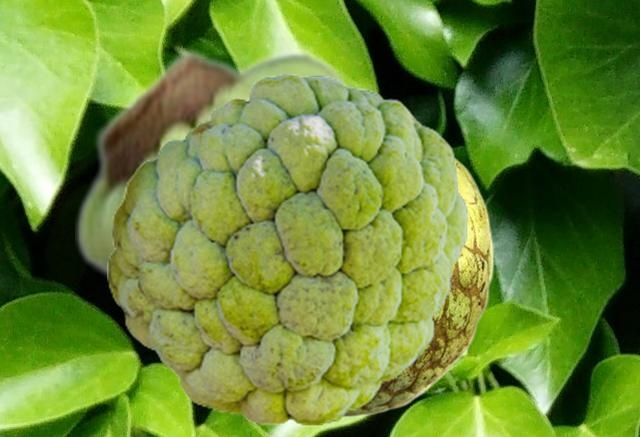atis: (107, 74, 467, 425), (75, 46, 351, 284), (344, 157, 493, 417)
